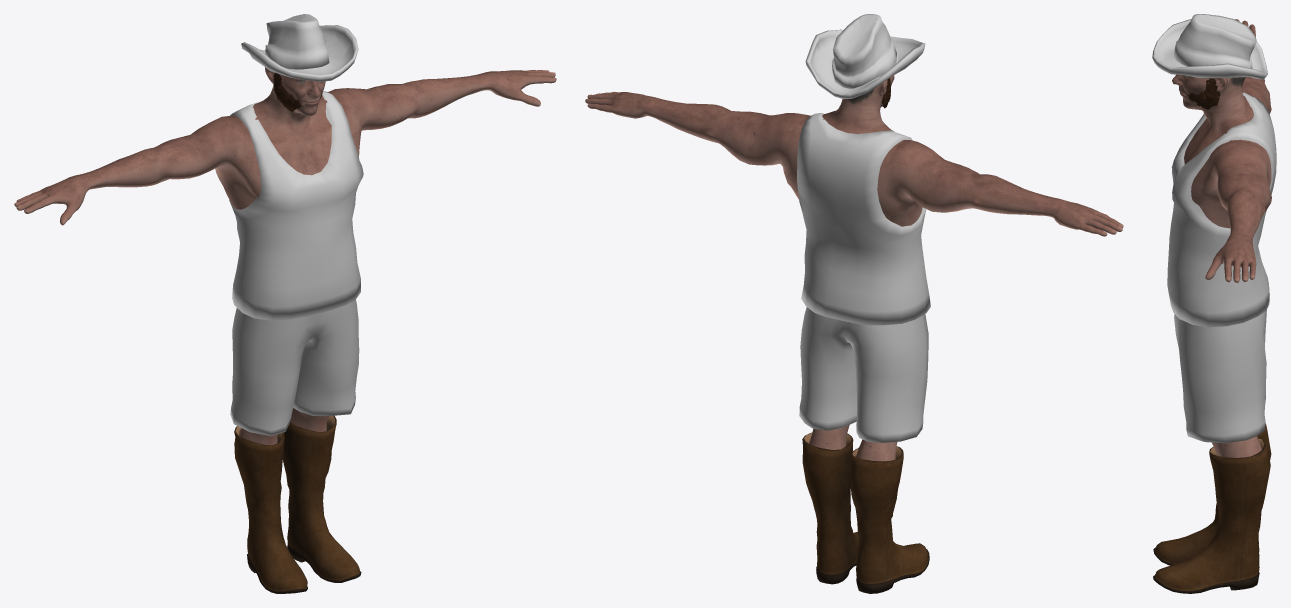
The model's file is farmer.obj.
The picture shows the model from 3 angles, left to right: view 1: azimuth 30°, elevation 25°; view 2: azimuth 150°, elevation 25°; view 3: azimuth 270°, elevation 25°; orthographic projection.
Visible parts, largest first — view 1: Body, Tops, Bottoms, Shoes, Hats; view 2: Body, Tops, Bottoms, Shoes, Hats; view 3: Body, Tops, Shoes, Bottoms, Hats, Beards.
Part boxes in pixels (x1,y1,x2,y2): Body: (14,67,556,445); Tops: (229,91,363,320); Bottoms: (230,299,359,436); Shoes: (234,415,361,593); Hats: (241,14,358,81); Body: (585,75,1123,461); Tops: (797,113,930,325); Bottoms: (799,307,928,442); Shoes: (802,432,929,593); Hats: (805,14,925,98); Body: (1172,19,1271,457); Tops: (1167,92,1276,327); Shoes: (1153,423,1271,593); Bottoms: (1174,310,1266,443); Hats: (1152,14,1267,79); Beards: (1187,78,1220,109).
Size of the model in its own units: 189 by 187 by 37.72.
